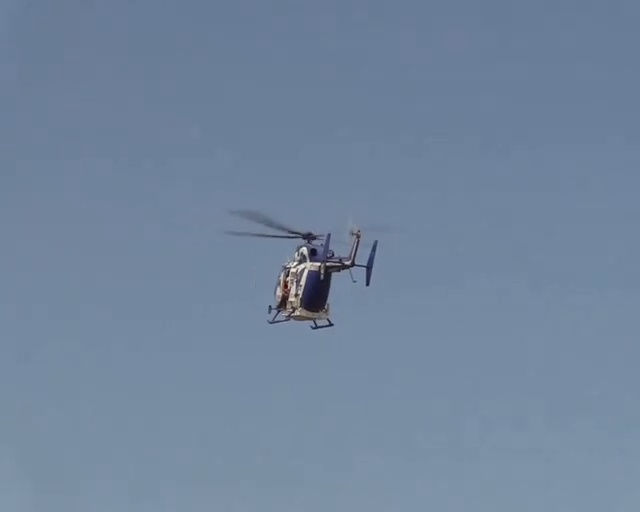HELICOPTER: (223, 207, 381, 330)
